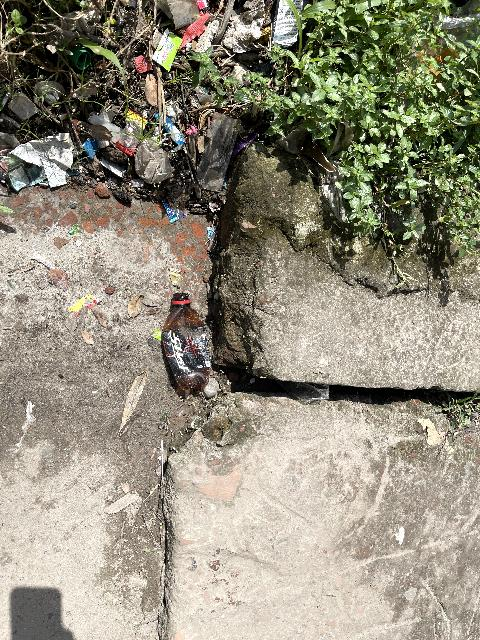bottle: (145, 280, 231, 412)
